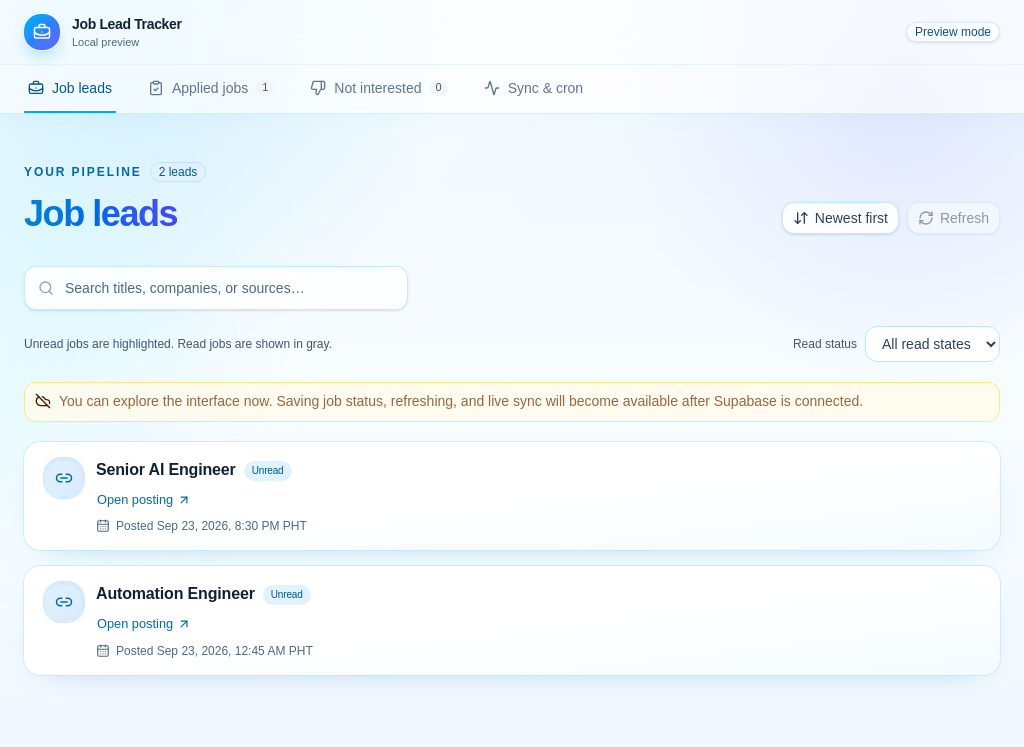
Scenario: Sync & cron navigation › keeps the search when moving between job views and the sync page
Step 1. Type "AI Engineer" into the search field named "Search jobs" → (216, 288), box [24,266,408,310]
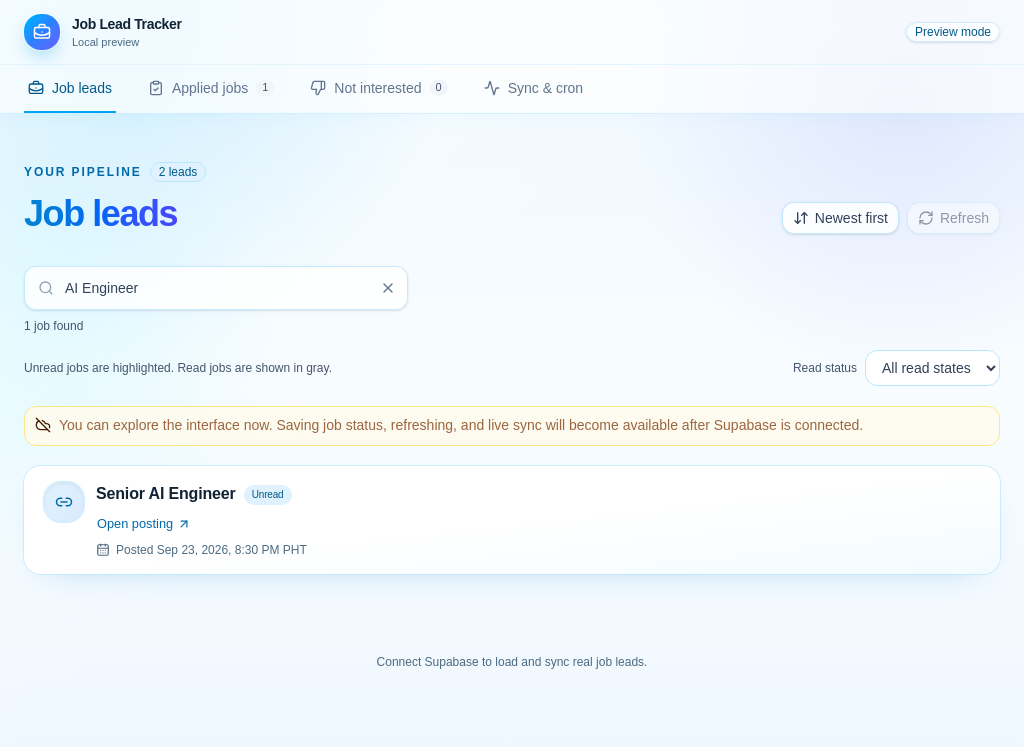
Step 2. Click the link "Sync & cron" → (533, 88), box [484,80,583,96]
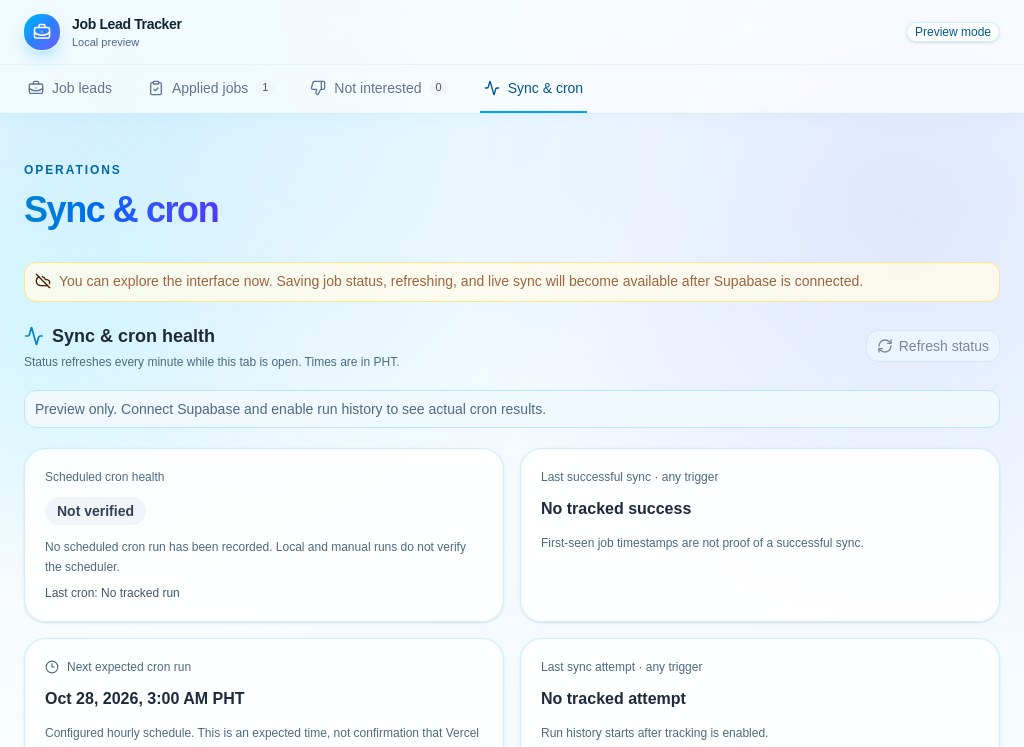
Step 3. Click the link "Job leads" → (70, 88), box [28,80,112,96]
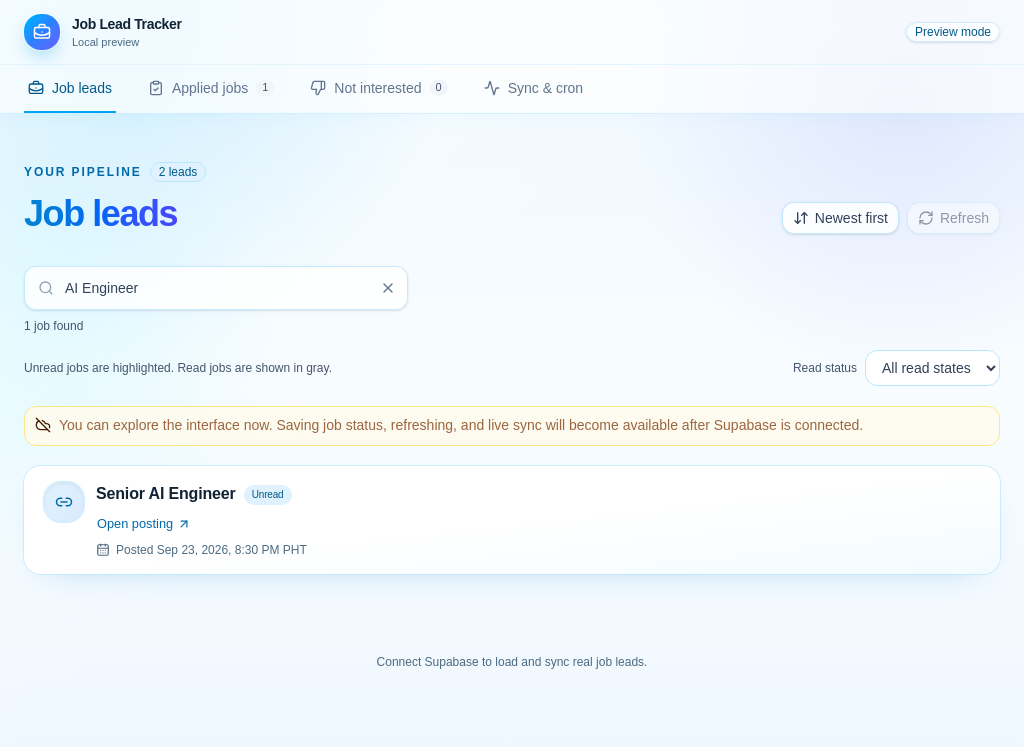
Check: the search field named "Search jobs" holds "AI Engineer", box [24,266,408,310]
Check: the text "Senior AI Engineer" is shown, box [96,485,236,502]
